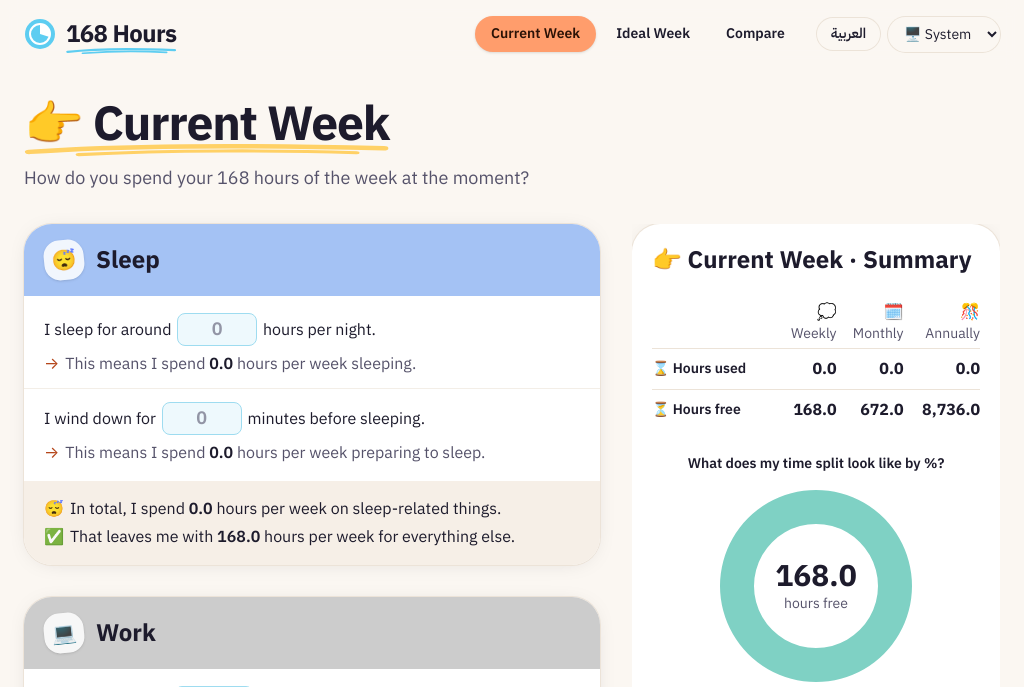
Test: week form › keeps current and ideal weeks separate, with ideal wording
Type "7" into the field labelled "I sleep for around hours per night." at {"x": 217, "y": 329}, box left=177, top=313, right=257, bottom=346
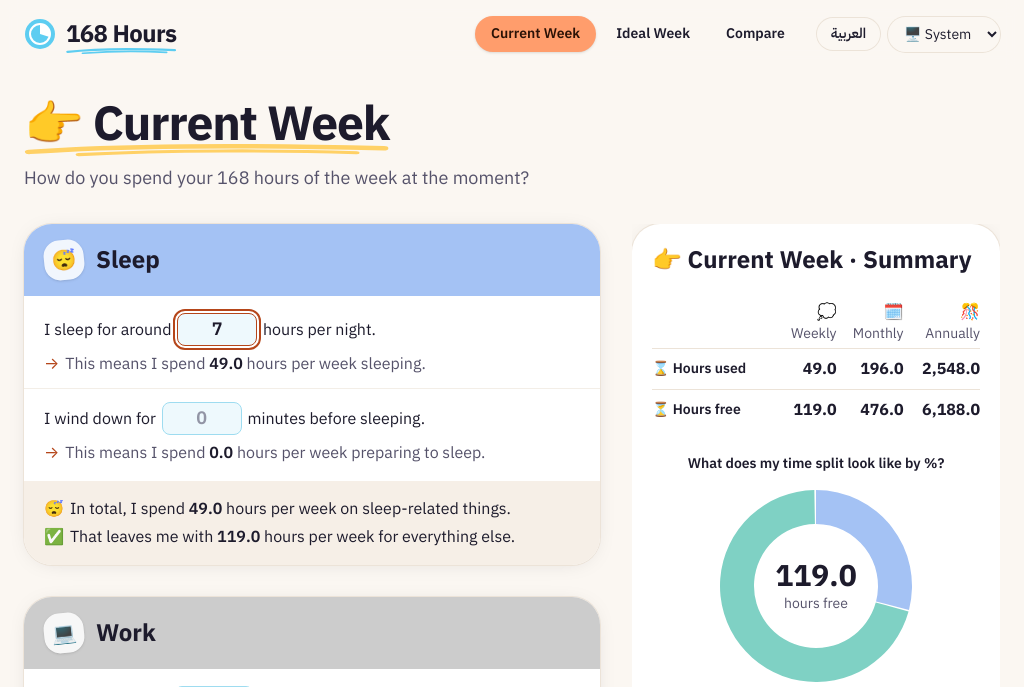
Click the link "Ideal Week" at {"x": 653, "y": 34}, box left=616, top=23, right=690, bottom=44
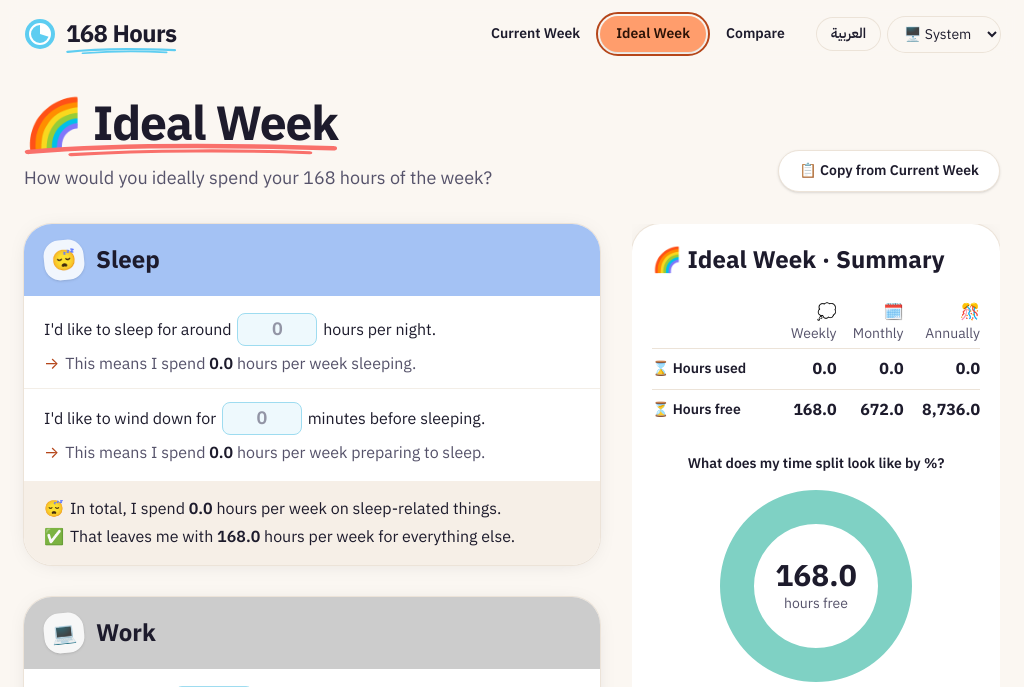
Check: the heading "🌈 Ideal Week" is shown, box left=24, top=88, right=338, bottom=160
Check: the field labelled "I'd like to sleep for around hours per night." is empty, box left=237, top=313, right=317, bottom=346
